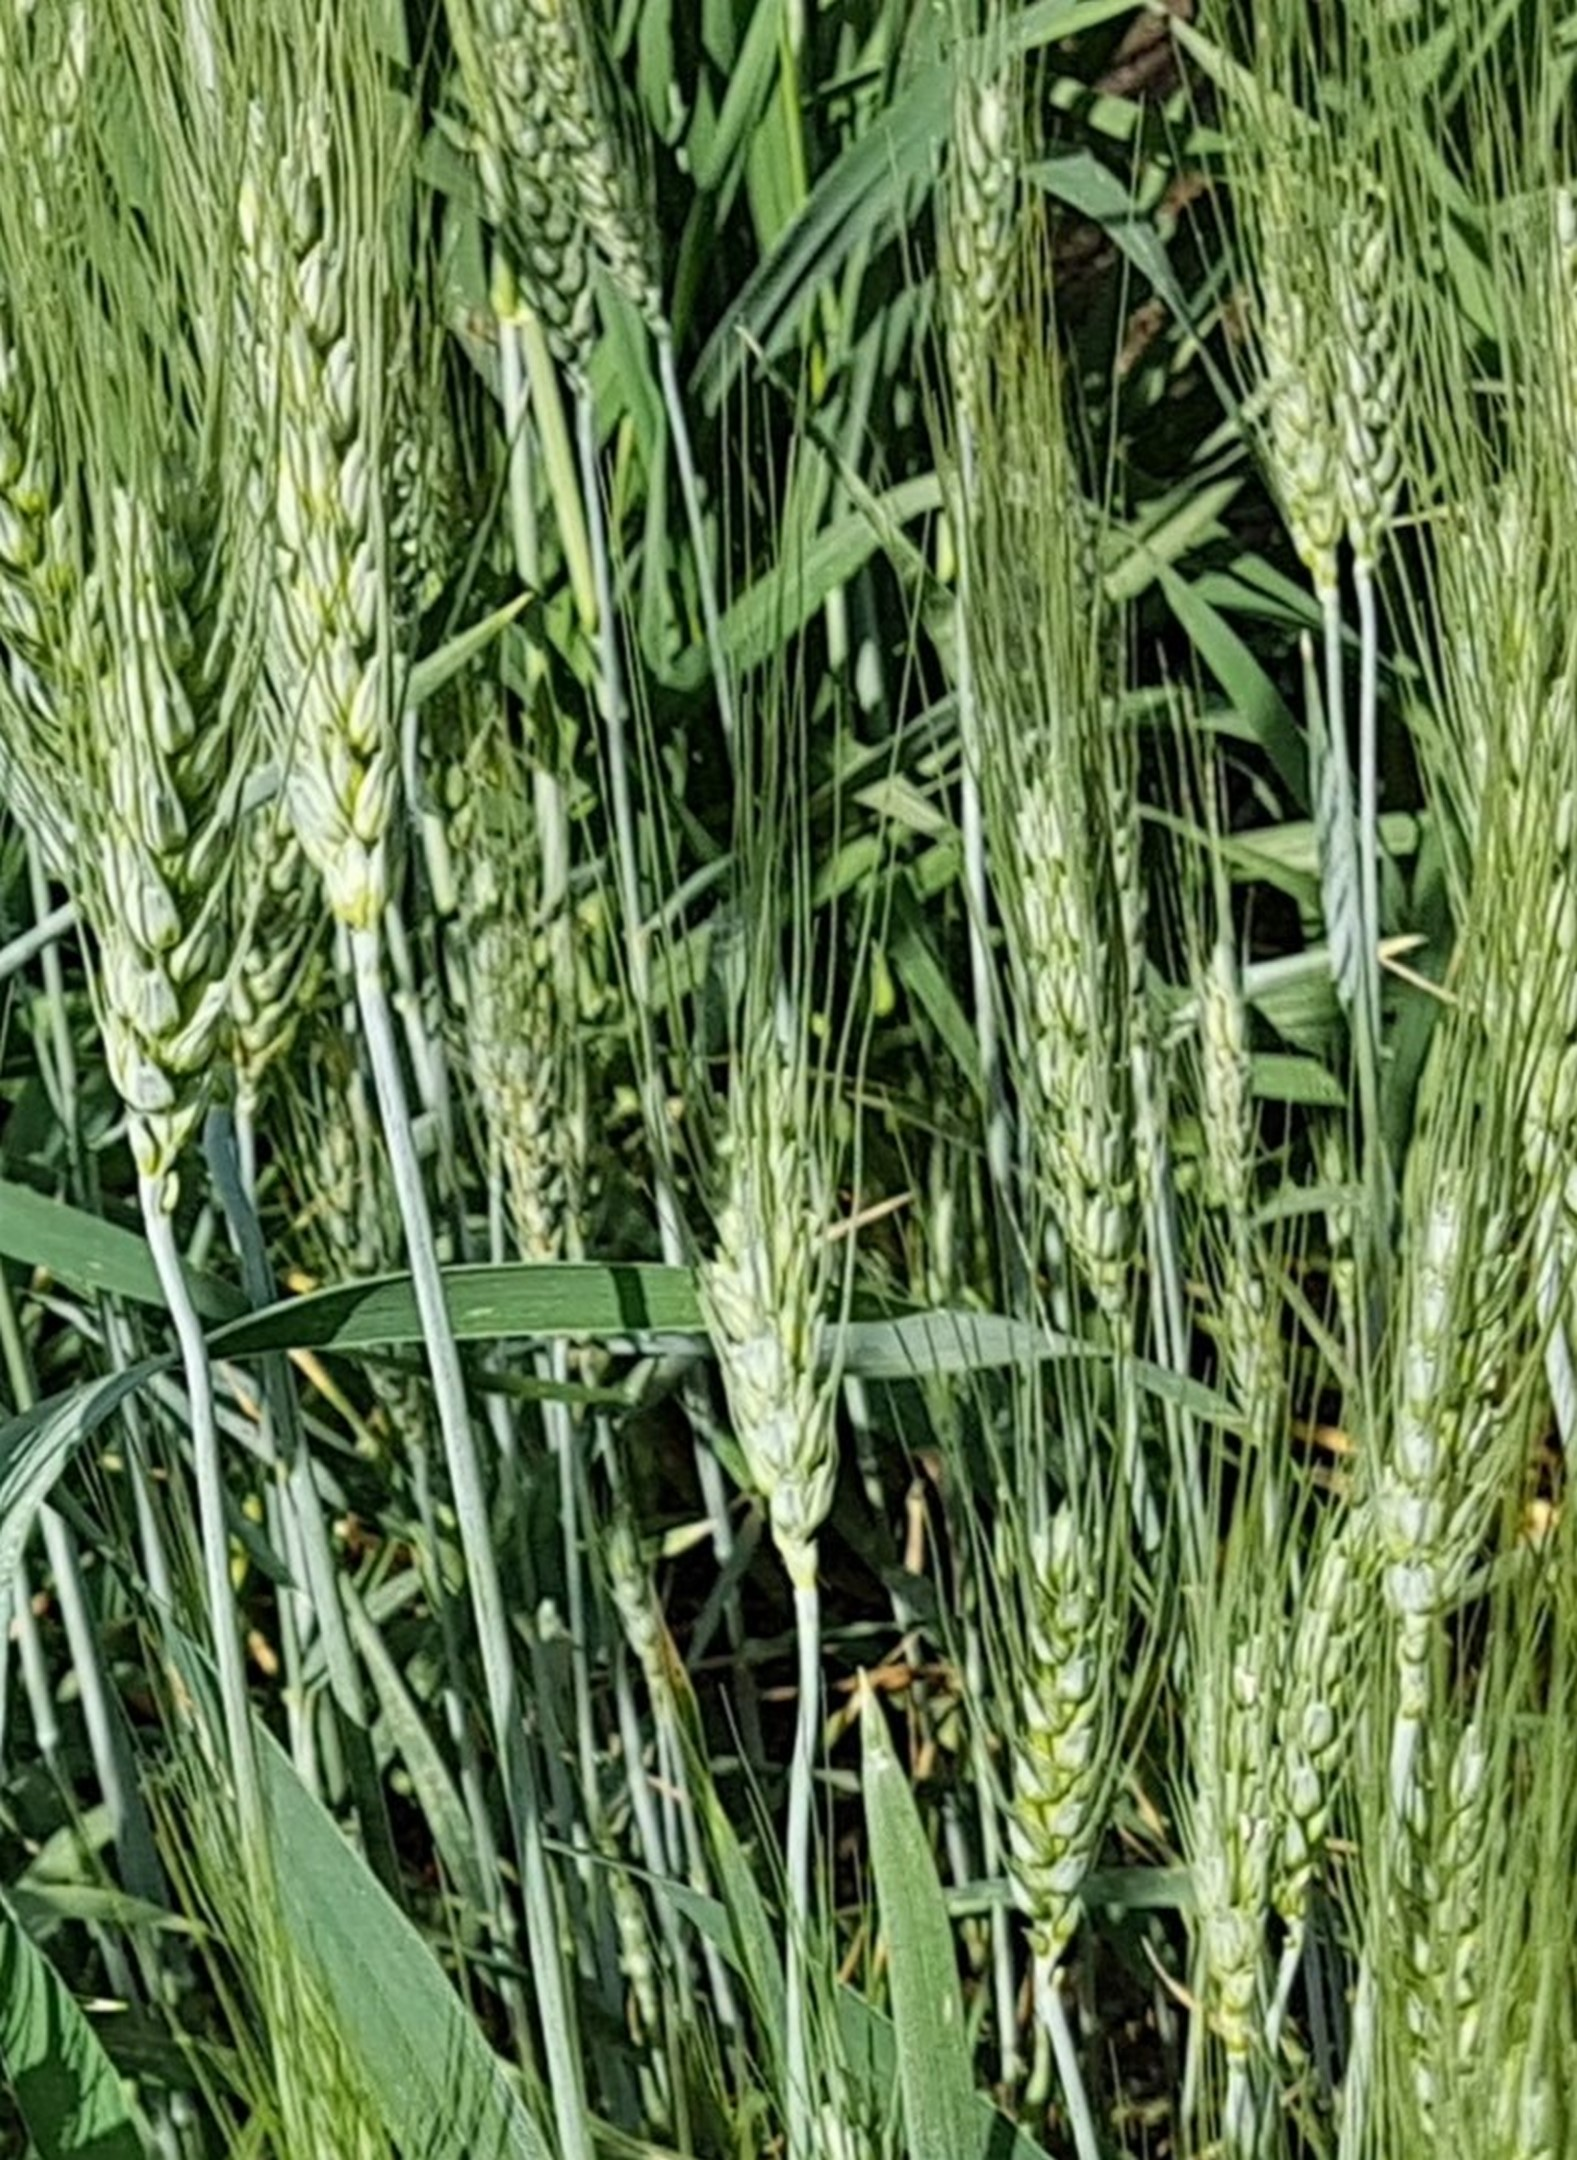Healthy Wheat: (196, 65, 450, 907), (671, 1057, 898, 1533)
